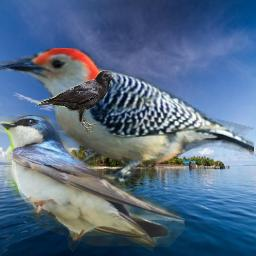Crow: (34, 70, 113, 133)
Swallow: (0, 115, 185, 253)
Woodpecker: (0, 48, 254, 186)
